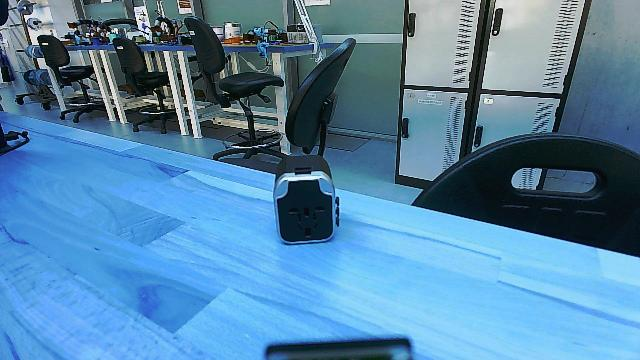adapter: (266, 151, 352, 257)
